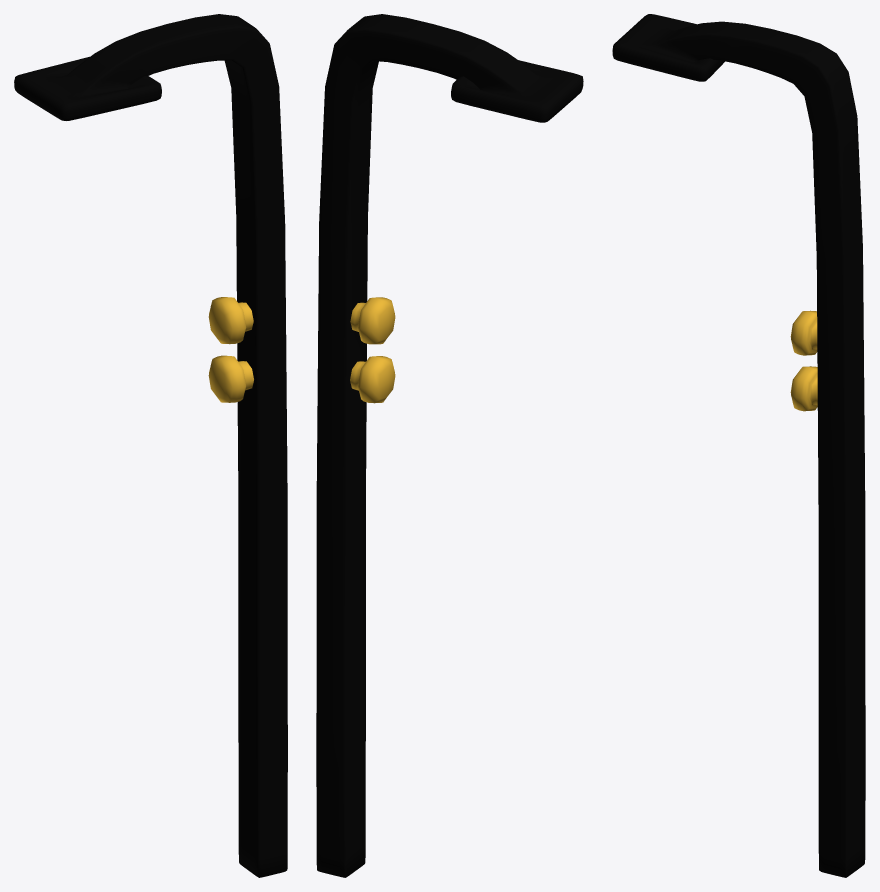
Rendered from Regadera.fbx.
3 views of the same model, side by side, from view 1: azimuth 30°, elevation 25°; view 2: azimuth 150°, elevation 25°; view 3: azimuth 330°, elevation 25° (orthographic). The views are drawn at different scales.
Parts seen in each view (by area): view 1: Regadera; view 2: Regadera; view 3: Regadera.
Part boxes in pixels (x1,y1,x2,y2): Regadera: (14, 14, 287, 877); Regadera: (316, 14, 583, 877); Regadera: (612, 14, 865, 877).
Bounding box in the file's own units: 149 × 506 × 49.97.
